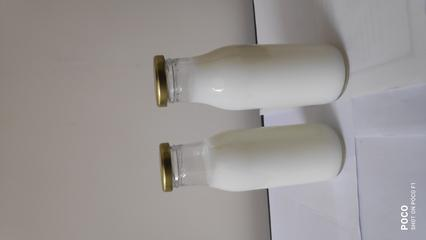milk: (157, 119, 373, 193), (152, 43, 360, 111)
